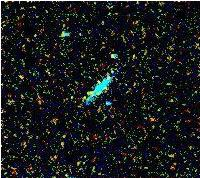star: (74, 76, 104, 106)
